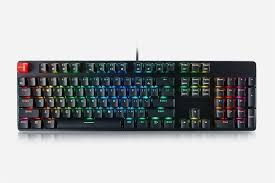keyboard: (14, 49, 260, 134)
